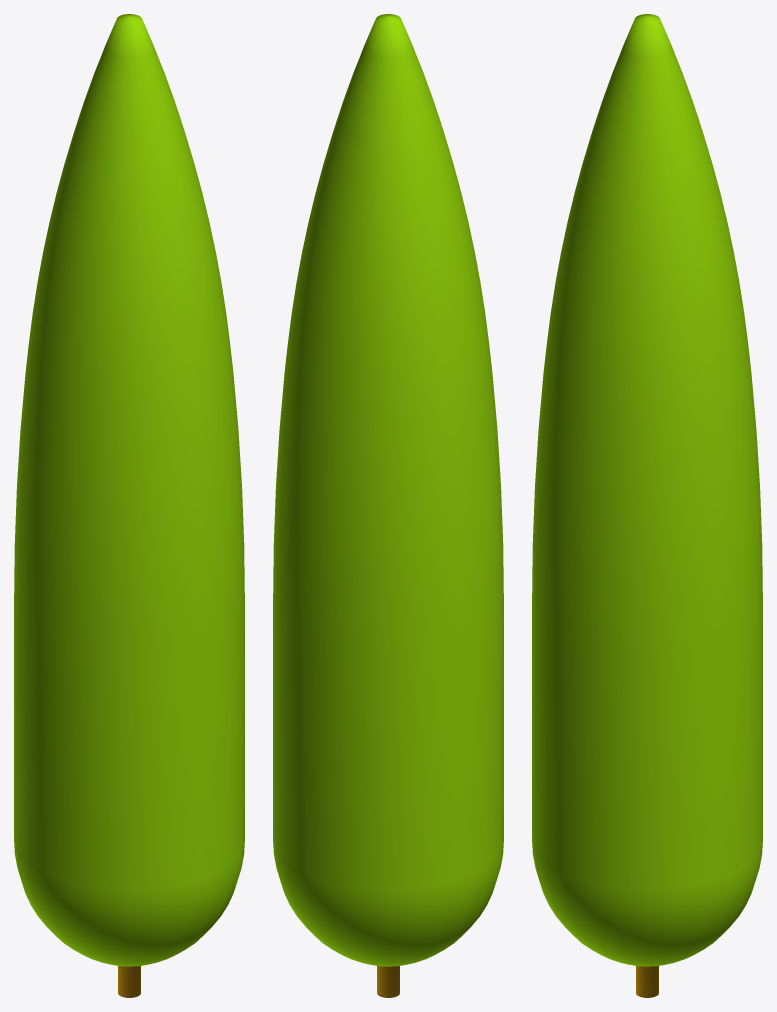
The model's file is LPK7m.glb.
3 renders of one model, left to right at view 1: azimuth 30°, elevation 25°; view 2: azimuth 150°, elevation 25°; view 3: azimuth 270°, elevation 25°, orthographic.
Visible parts, largest first — view 1: LPK7m; view 2: LPK7m; view 3: LPK7m.
Boxes of the visible parts, box(x1,y1,x2,y2) form: LPK7m: box(14, 14, 244, 997); LPK7m: box(273, 14, 503, 997); LPK7m: box(532, 14, 762, 997).
Size of the model in its own units: 1.5 by 7 by 1.5.
